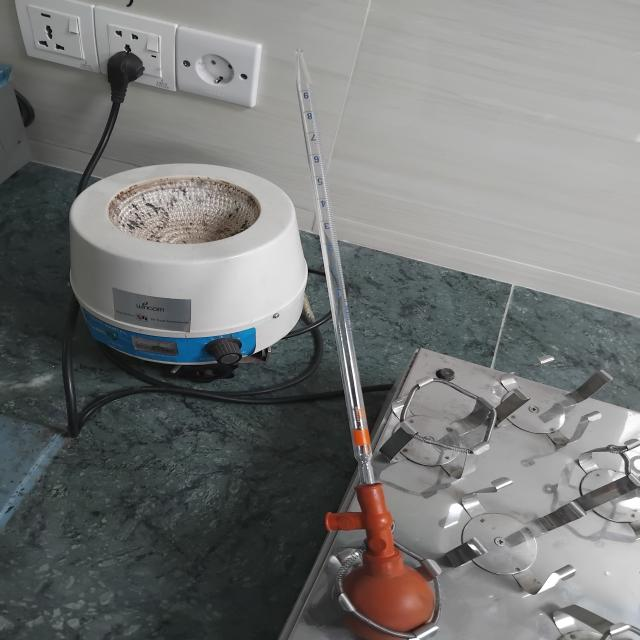Volumetric_Pipet: (242, 33, 480, 640)
